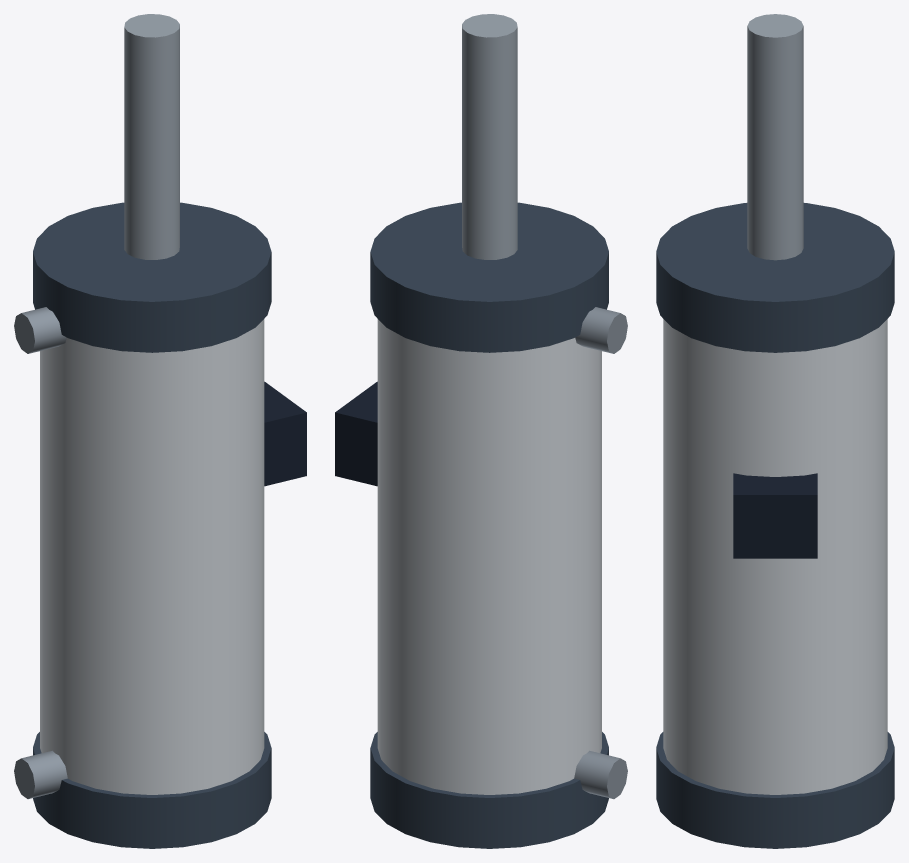
The picture shows the model from 3 angles, left to right: view 1: azimuth 30°, elevation 25°; view 2: azimuth 150°, elevation 25°; view 3: azimuth 270°, elevation 25°; orthographic projection.
Size of the model in its own units: 0.43 by 1.21 by 0.34.
